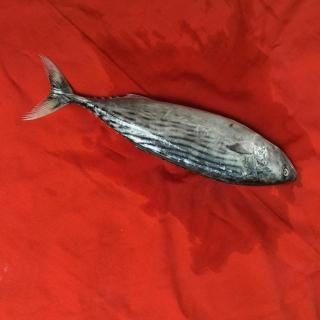Ikan: (32, 44, 306, 203)
